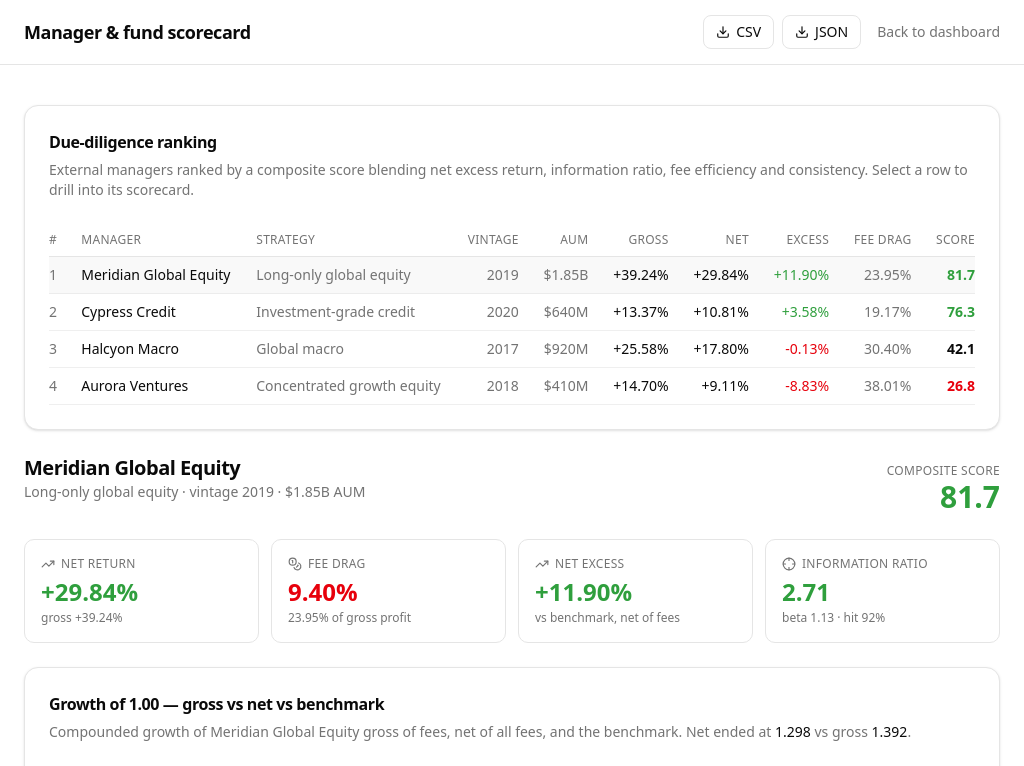
Test: ManagerScorecardPage › selecting another manager drills into its scorecard
The image size is (1024, 766).
Click the row with test id "roster-row" that starts with "Aurora Ventures" at (512, 386), box [49,368,975,404]
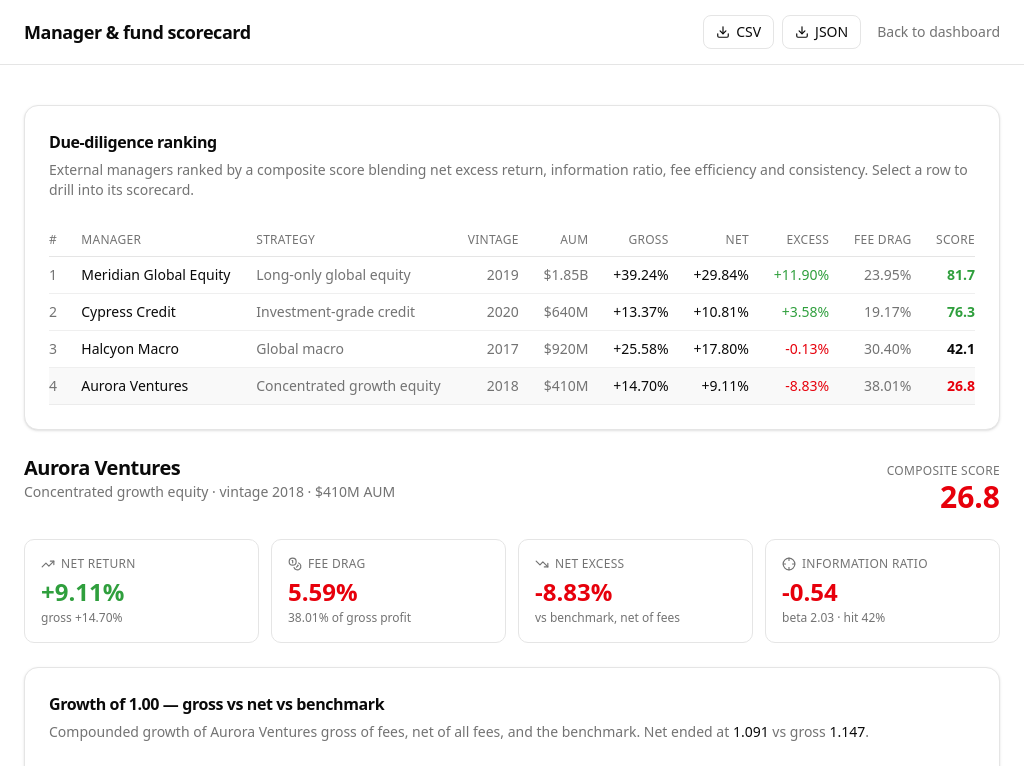
Now the element with test id "detail-header" shows "Aurora Ventures", box [24,454,180,481]
Now the element with test id "kpi-excess" shows "-", box [518,539,753,643]
